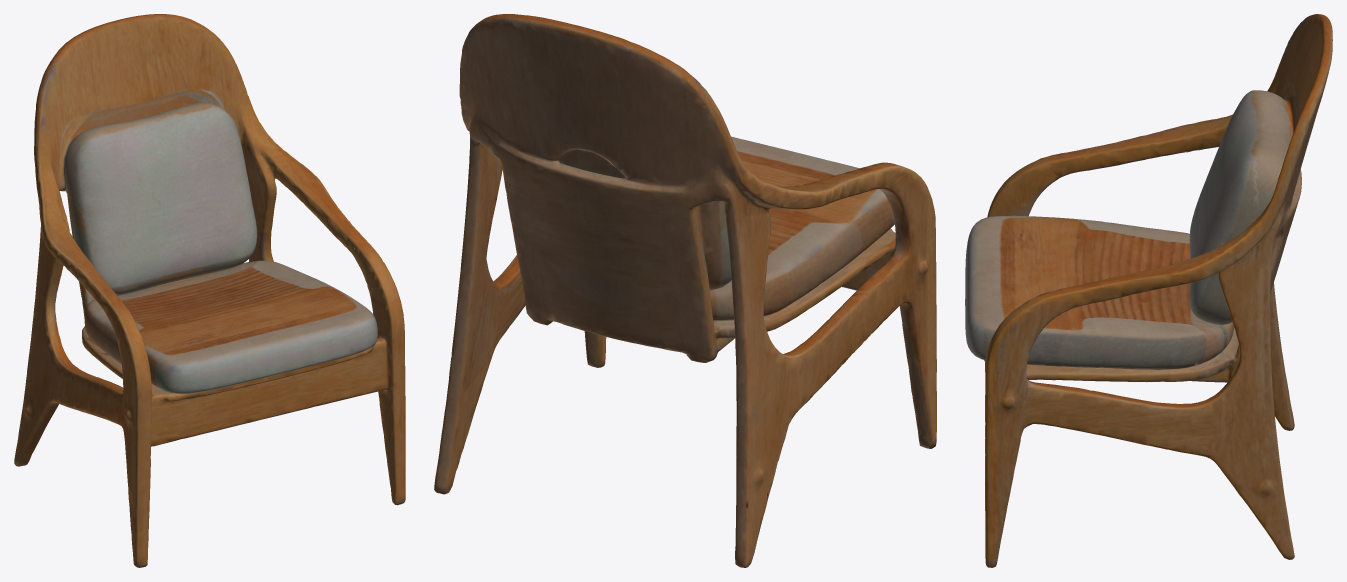
Rendered from meshy_01971864-9e43-778d-a018-98baae962ae3.glb.
3 views of the same model, side by side, from view 1: azimuth 30°, elevation 25°; view 2: azimuth 150°, elevation 25°; view 3: azimuth 270°, elevation 25° (orthographic). The views are drawn at different scales.
Visible parts, largest first — view 1: file1; view 2: file1; view 3: file1.
Boxes of the visible parts, x1,y1,x2,y2 form: file1: (14, 14, 405, 567); file1: (434, 14, 936, 567); file1: (965, 14, 1332, 567).
Bounding box in the file's own units: 1.4 × 2 × 1.46.
Materials: 1 (1 with a texture image).
